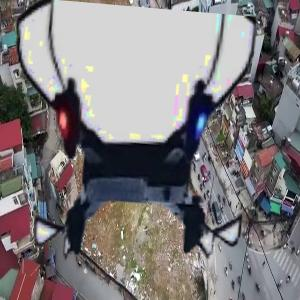drone: (4, 8, 268, 272)
